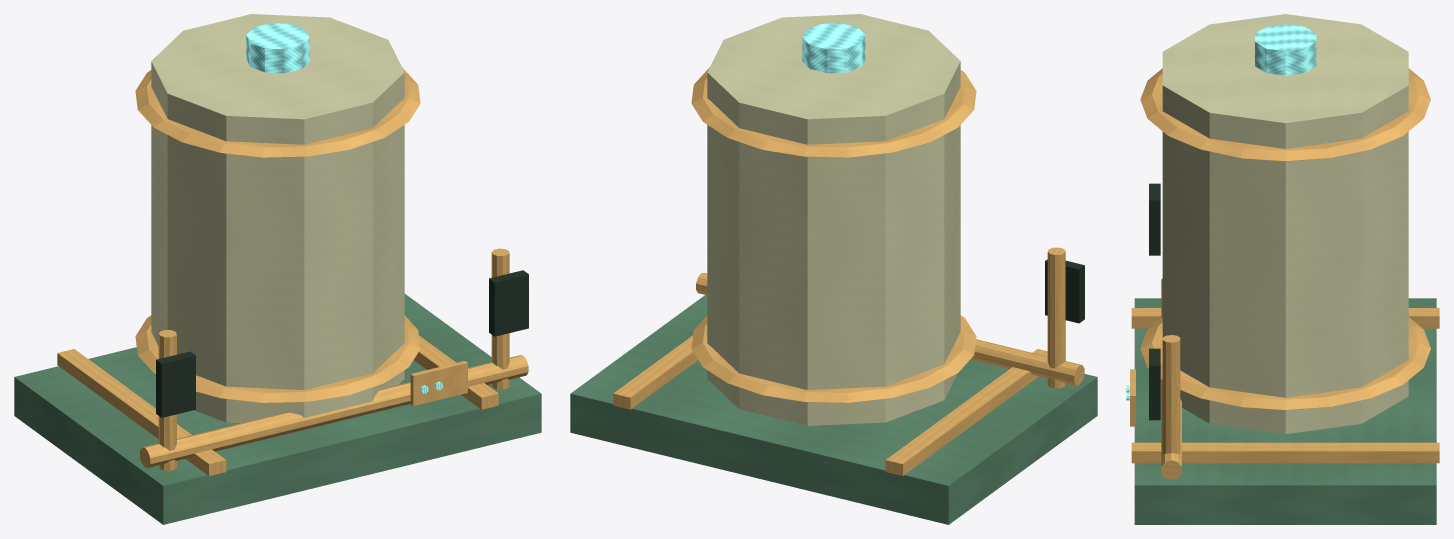
File: atlas100-s006-a02.glb
The picture shows the model from 3 angles, left to right: view 1: azimuth 30°, elevation 25°; view 2: azimuth 150°, elevation 25°; view 3: azimuth 270°, elevation 25°; orthographic projection.
Visible parts, largest first — view 1: atlas100-s006-a02:part-003, atlas100-s006-a02:part-000, atlas100-s006-a02:part-012, atlas100-s006-a02:part-005, atlas100-s006-a02:part-004, atlas100-s006-a02:part-001, atlas100-s006-a02:part-006, atlas100-s006-a02:part-011, atlas100-s006-a02:part-009, atlas100-s006-a02:part-013, atlas100-s006-a02:part-002, atlas100-s006-a02:part-010 (+1 smaller); view 2: atlas100-s006-a02:part-003, atlas100-s006-a02:part-000, atlas100-s006-a02:part-005, atlas100-s006-a02:part-004, atlas100-s006-a02:part-001, atlas100-s006-a02:part-006, atlas100-s006-a02:part-012, atlas100-s006-a02:part-008, atlas100-s006-a02:part-002, atlas100-s006-a02:part-009; view 3: atlas100-s006-a02:part-003, atlas100-s006-a02:part-000, atlas100-s006-a02:part-002, atlas100-s006-a02:part-005, atlas100-s006-a02:part-004, atlas100-s006-a02:part-006, atlas100-s006-a02:part-010, atlas100-s006-a02:part-001, atlas100-s006-a02:part-009, atlas100-s006-a02:part-011, atlas100-s006-a02:part-012.
Boxes of the visible parts, x1,y1,x2,y2 form: atlas100-s006-a02:part-003: (151,14,404,423); atlas100-s006-a02:part-000: (14,294,541,524); atlas100-s006-a02:part-012: (140,355,528,467); atlas100-s006-a02:part-005: (135,67,420,157); atlas100-s006-a02:part-004: (135,315,420,403); atlas100-s006-a02:part-001: (57,349,226,476); atlas100-s006-a02:part-006: (246,23,309,73); atlas100-s006-a02:part-011: (489,270,528,336); atlas100-s006-a02:part-009: (156,351,195,417); atlas100-s006-a02:part-013: (410,361,467,405); atlas100-s006-a02:part-002: (414,335,498,409); atlas100-s006-a02:part-010: (491,248,509,389); atlas100-s006-a02:part-003: (707,14,960,425); atlas100-s006-a02:part-000: (570,295,1097,524); atlas100-s006-a02:part-005: (691,67,976,157); atlas100-s006-a02:part-004: (691,315,976,403); atlas100-s006-a02:part-001: (885,349,1047,476); atlas100-s006-a02:part-006: (802,23,865,73); atlas100-s006-a02:part-012: (696,273,1084,385); atlas100-s006-a02:part-008: (1047,247,1065,388); atlas100-s006-a02:part-002: (613,335,697,409); atlas100-s006-a02:part-009: (1045,259,1084,323); atlas100-s006-a02:part-003: (1162,14,1408,434); atlas100-s006-a02:part-000: (1134,298,1436,524); atlas100-s006-a02:part-002: (1131,442,1439,463); atlas100-s006-a02:part-005: (1140,68,1430,161); atlas100-s006-a02:part-004: (1140,317,1430,410); atlas100-s006-a02:part-006: (1255,24,1316,75); atlas100-s006-a02:part-010: (1162,335,1180,454); atlas100-s006-a02:part-001: (1131,308,1439,328); atlas100-s006-a02:part-009: (1149,183,1160,255); atlas100-s006-a02:part-011: (1149,348,1160,420); atlas100-s006-a02:part-012: (1161,278,1181,479).
Size of the model in its own units: 2.64 by 2.59 by 1.87.
5 materials, 5 textured.
